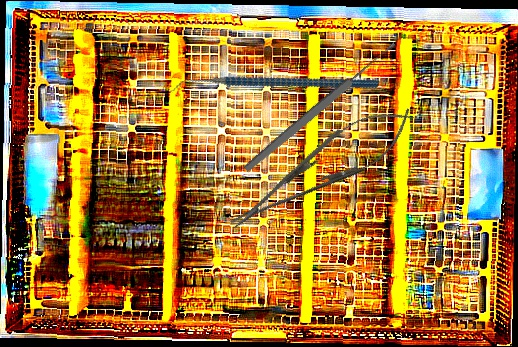Chopper: (169, 15, 380, 158)
Needle Holder: (217, 90, 425, 247)
Surgical Spoon: (241, 39, 400, 175)
